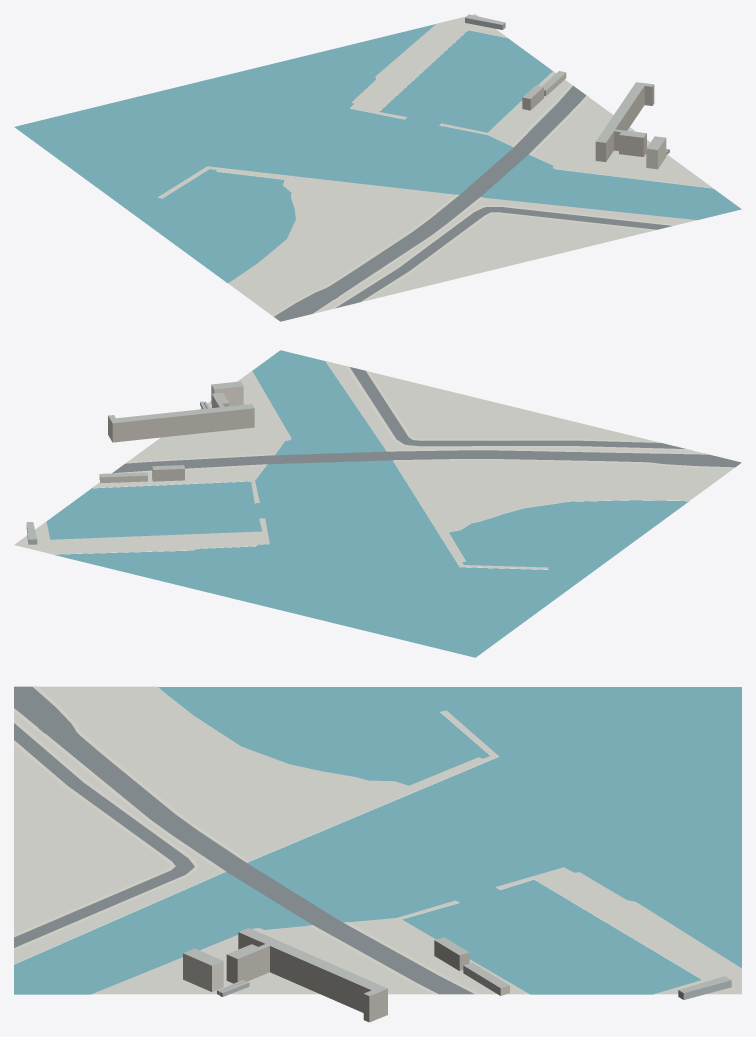
3 views of the same model, one above another, from view 1: azimuth 30°, elevation 25°; view 2: azimuth 150°, elevation 25°; view 3: azimuth 270°, elevation 25° (orthographic). The views are drawn at different scales.
Parts seen in each view (by area): view 1: city; view 2: city; view 3: city.
Part boxes in pixels (box(x1,y1,x2,y2)): city: box(14, 14, 741, 321); city: box(14, 350, 741, 657); city: box(14, 686, 741, 1022).
Size of the model in its own units: 546 by 20.18 by 500.
